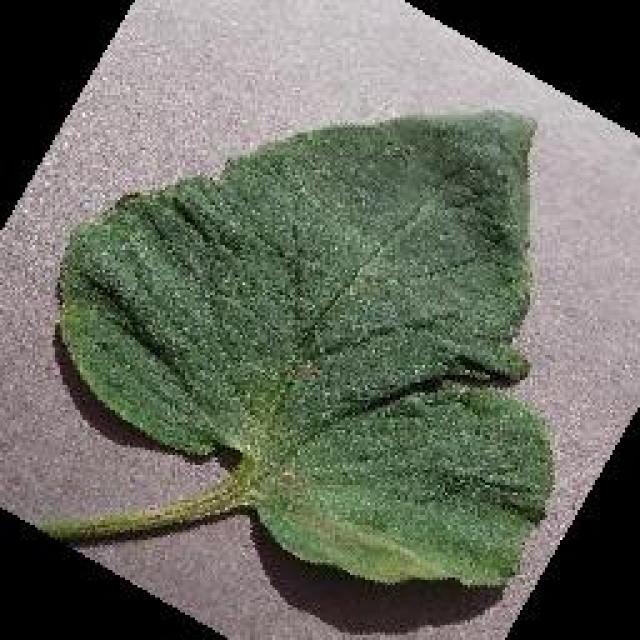Tomato___Target_Spot: (42, 112, 552, 582)
